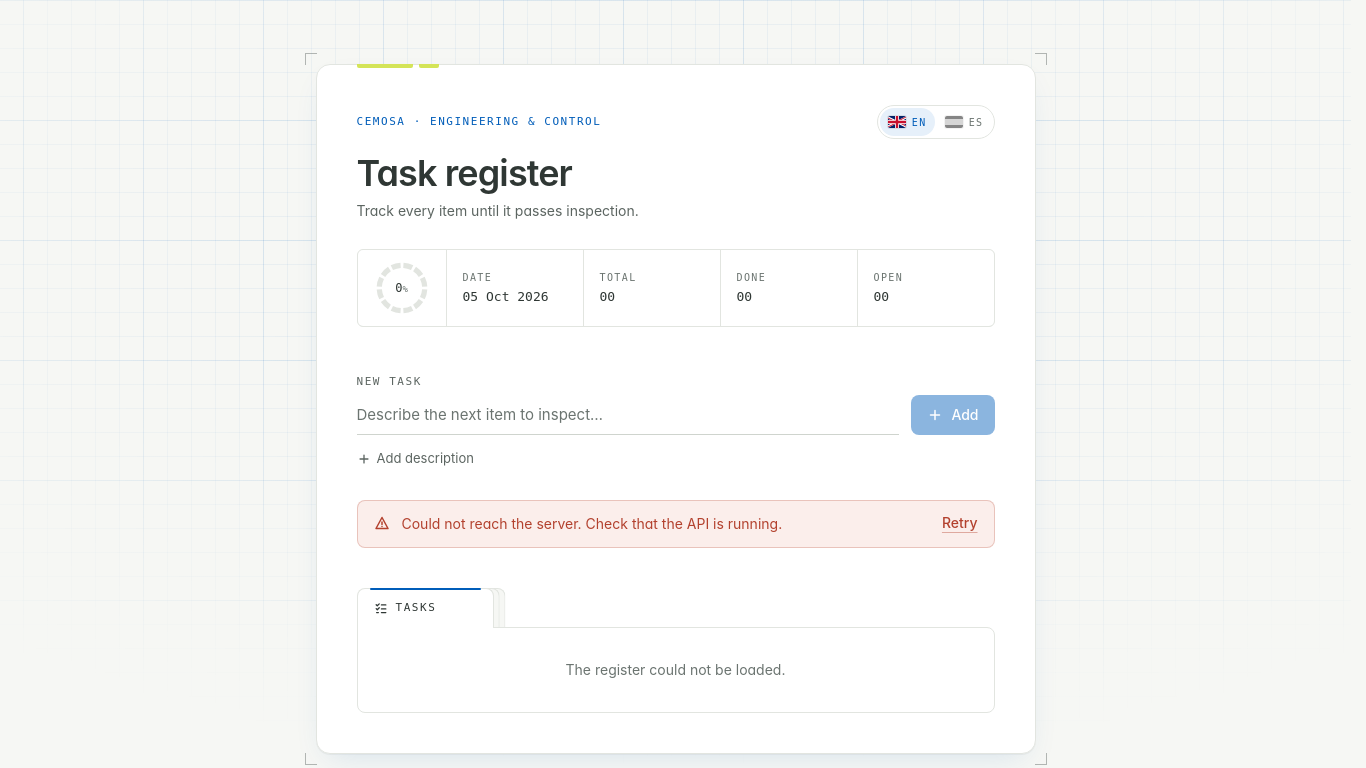
Scenario: loading (task 3) › explains a failed first load and lets the user retry
Expected: the message shows "Could not reach the server", [402,515,782,532]
Expected: the text "The register could not be loaded." is shown, [566,661,785,678]
Click the button "Retry" at (960, 523), box [934,509,986,537]
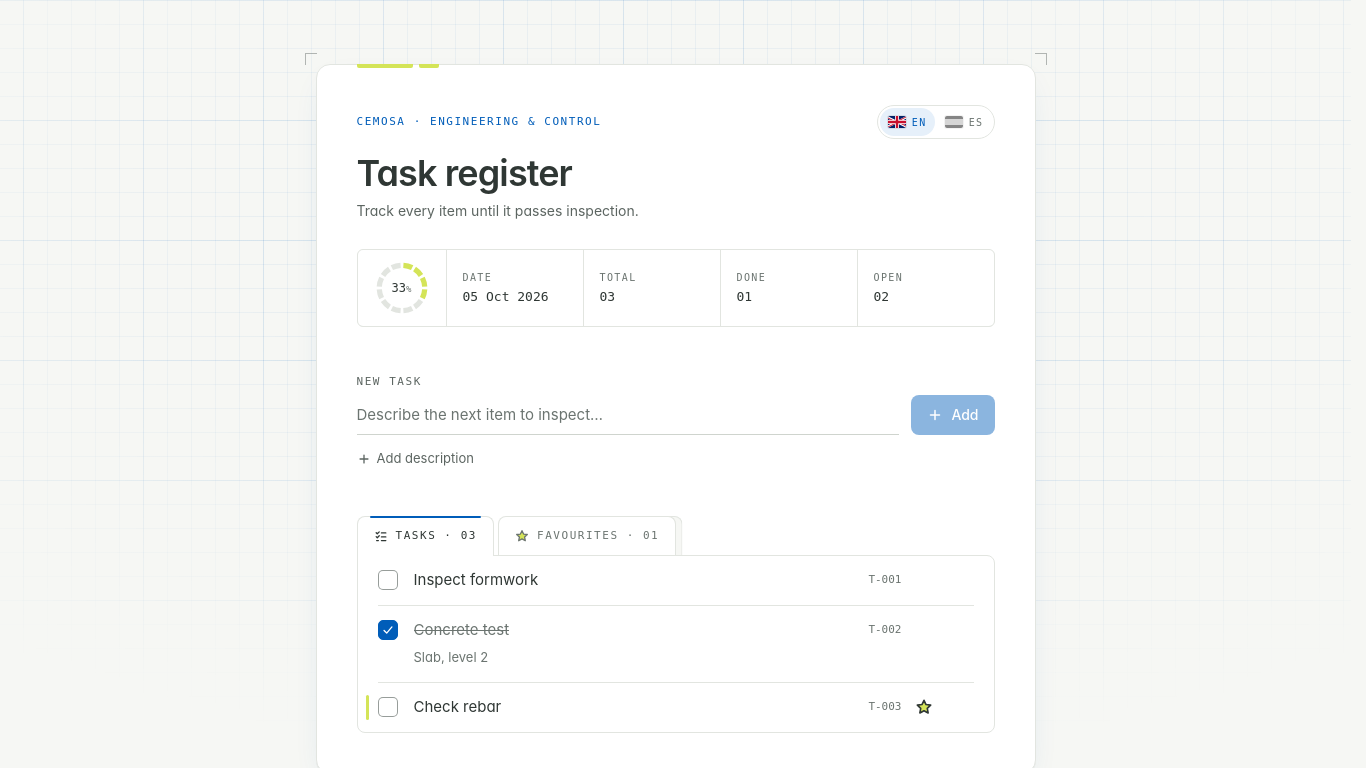
Expected: the text "Inspect formwork" is shown, [414,570,538,589]
Expected: the message "Could not reach the server. Check that the API is running. Retry" is gone
